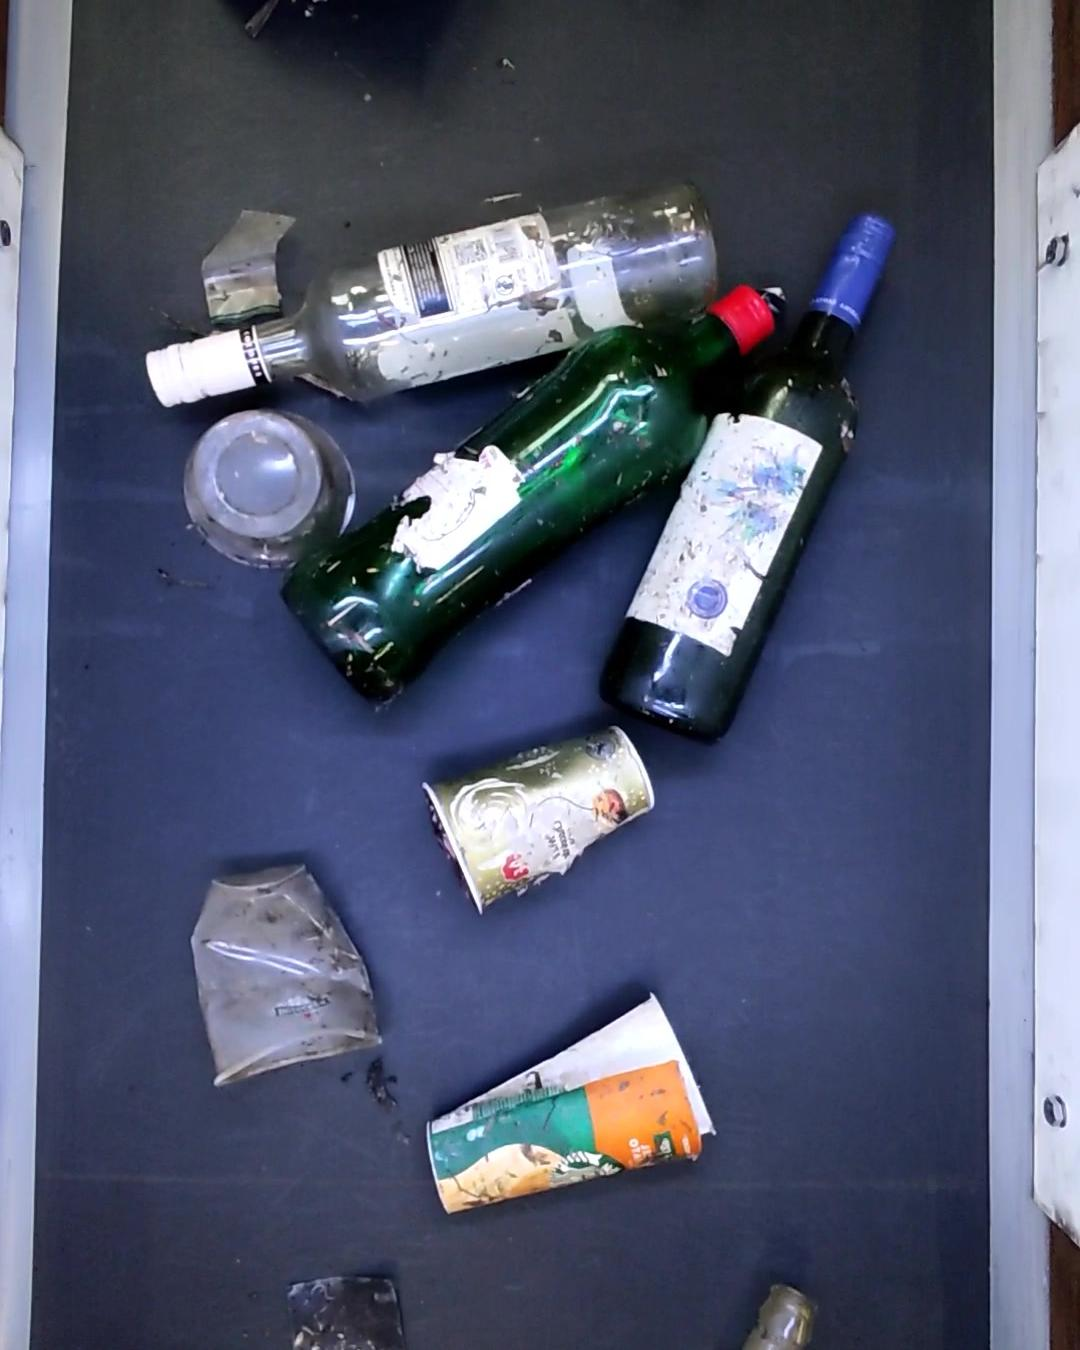Plastic folies of stukken daarvan 2.5- 50 cm: (287, 1266, 413, 1350)
